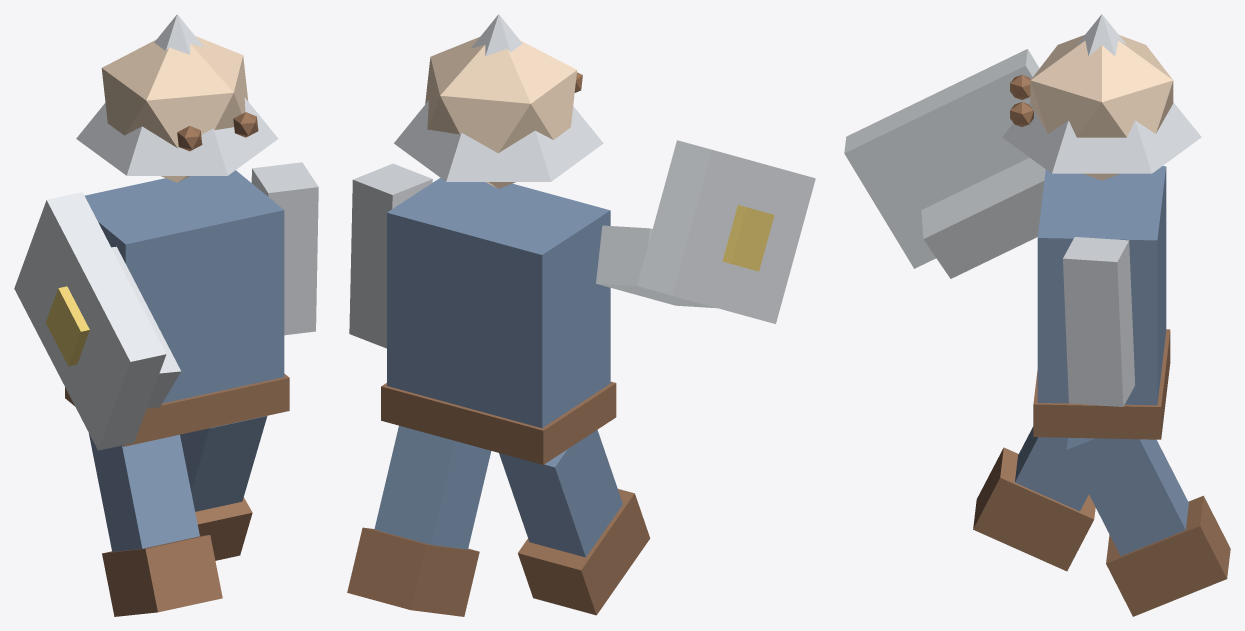
Rendered from npcpose_guard_walk_09.glb.
3 renders of one model, left to right at view 1: azimuth 30°, elevation 25°; view 2: azimuth 150°, elevation 25°; view 3: azimuth 270°, elevation 25°, orthographic. The views are drawn at different scales.
Visible parts, largest first — view 1: npcpose; view 2: npcpose; view 3: npcpose.
Boxes of the visible parts, left/top/right/bottom form: npcpose: left=14, top=14, right=318, bottom=616; npcpose: left=347, top=14, right=815, bottom=616; npcpose: left=844, top=14, right=1230, bottom=616.
Bounding box in the file's own units: 0.8962 × 1.56 × 0.9664.
